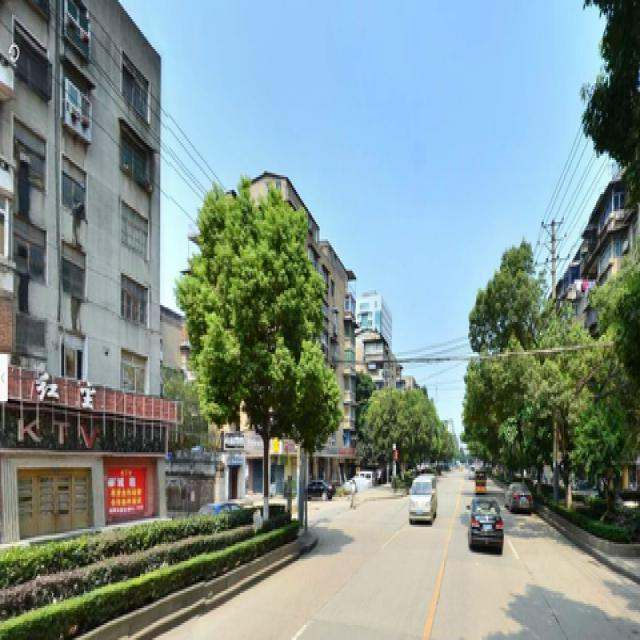cinn: (201, 209, 292, 512)
